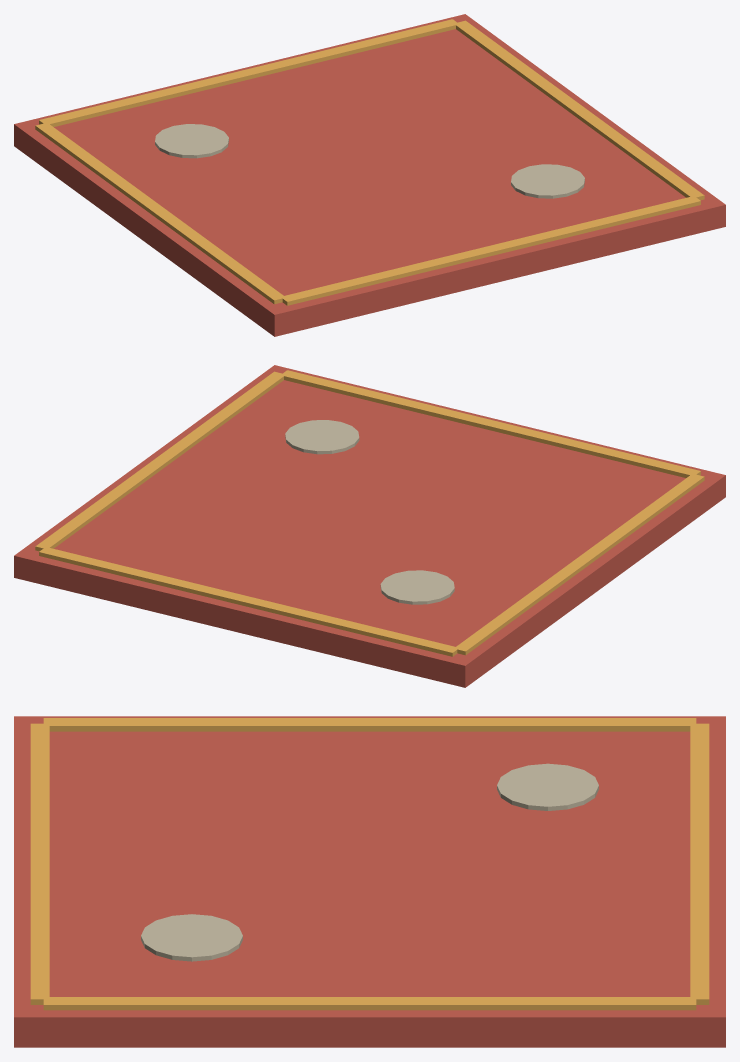
Rendered from space_die_coral_face_2.glb.
3 renders of one model, top to bottom at view 1: azimuth 30°, elevation 25°; view 2: azimuth 150°, elevation 25°; view 3: azimuth 270°, elevation 25°, orthographic. The views are drawn at different scales.
Visible parts, largest first — view 1: FixedDetails, BrassTrim; view 2: FixedDetails, BrassTrim; view 3: FixedDetails, BrassTrim.
Boxes of the visible parts, x1,y1,x2,y2 form: FixedDetails: (14,14,725,336); BrassTrim: (35,19,704,305); FixedDetails: (14,365,725,687); BrassTrim: (35,370,704,656); FixedDetails: (14,716,725,1047); BrassTrim: (30,718,709,1010).
Size of the model in its own units: 0.6 by 0.034 by 0.6.
